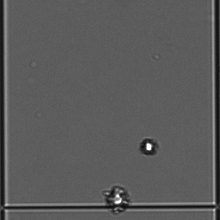Living Cell: (103, 184, 133, 213), (139, 136, 158, 157)
